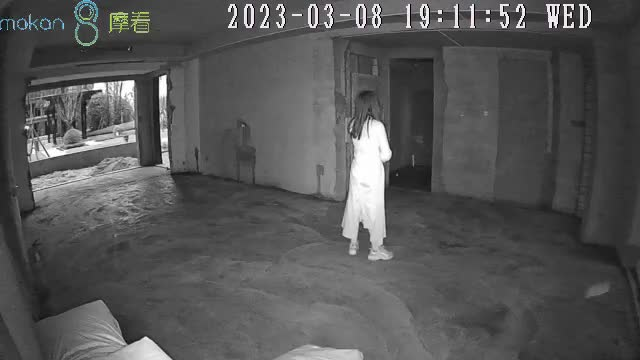people: (340, 90, 393, 260)
window: (23, 81, 148, 187)
